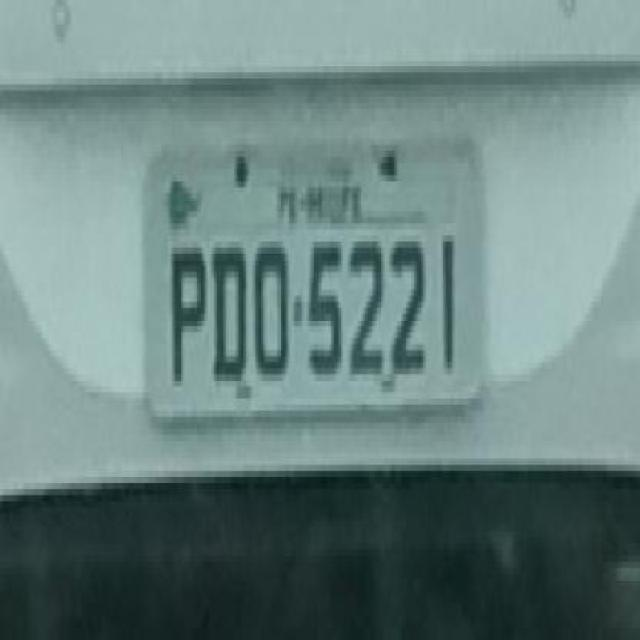old_plate: (136, 127, 495, 427)
